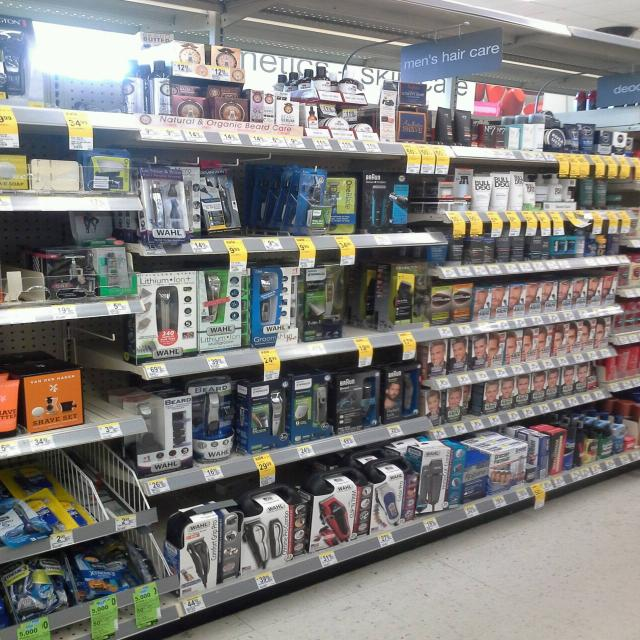empty: (23, 45, 126, 114), (82, 333, 125, 438), (342, 256, 382, 346)
